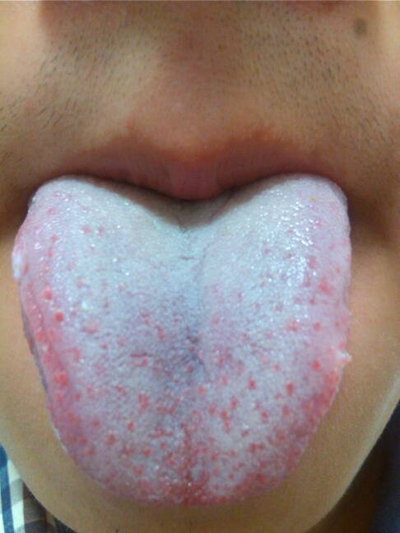baitaishe: (12, 170, 352, 508)
hongdianshe: (54, 308, 65, 323), (311, 357, 321, 371), (247, 377, 257, 390)
pangdashe: (12, 170, 352, 508)
